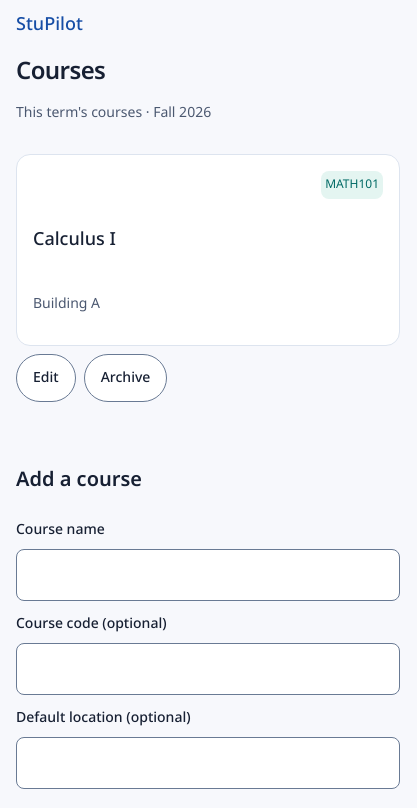
course views › opens the edit form pre-filled with the course's current values
This screenshot has width=417, height=808.
Click the button "Edit". click: click(46, 378)
box: x1=16 y1=354 x2=76 y2=402
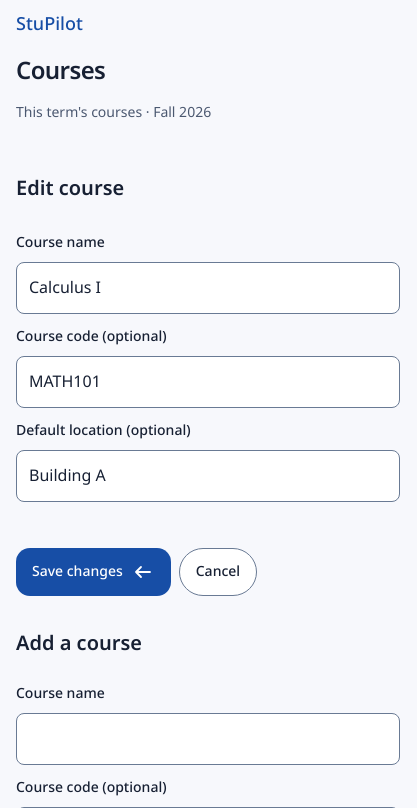
Result: the heading "Edit course" is shown at x1=16 y1=168 x2=124 y2=210
Result: the field labelled "Course name" below "Edit course" holds "Calculus I" at x1=16 y1=262 x2=400 y2=314
